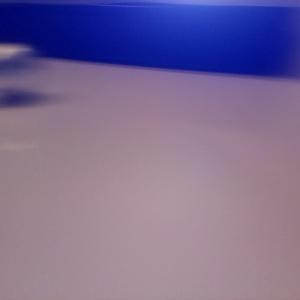alive_ball: (1, 44, 39, 99)
